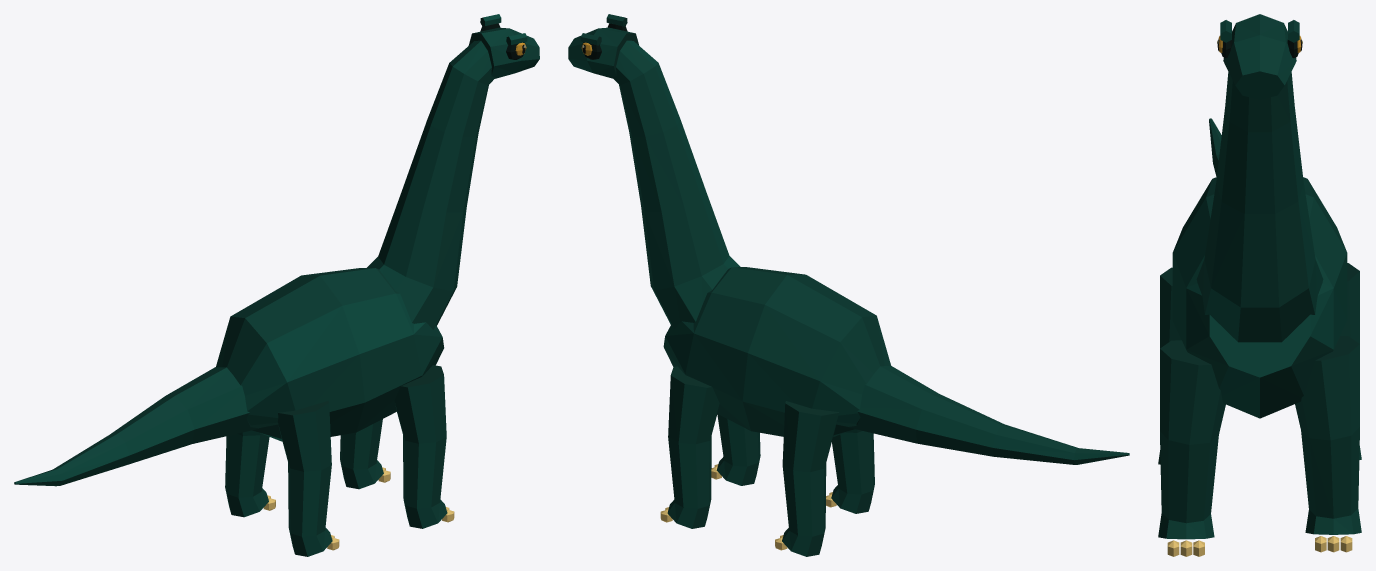
The model's file is SM_brachiosaurus.fbx.
3 renders of one model, left to right at view 1: azimuth 30°, elevation 25°; view 2: azimuth 150°, elevation 25°; view 3: azimuth 270°, elevation 25°, orthographic. The views are drawn at different scales.
Visible parts, largest first — view 1: SM_brachiosaurus • FBX; view 2: SM_brachiosaurus • FBX; view 3: SM_brachiosaurus • FBX.
Boxes of the visible parts, x1,y1,x2,y2 form: SM_brachiosaurus • FBX: [14, 14, 539, 556]; SM_brachiosaurus • FBX: [568, 14, 1129, 556]; SM_brachiosaurus • FBX: [1158, 14, 1361, 556].
Size of the model in its own units: 1148 by 289 by 920.
